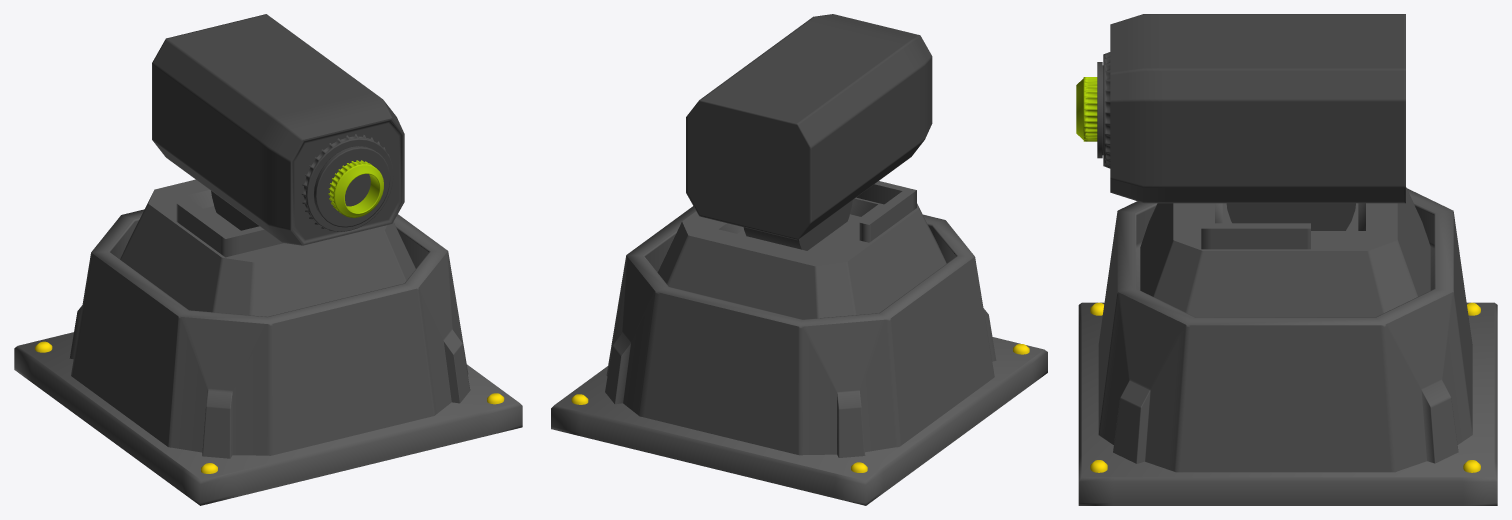
File: missileTower.fbx
3 views of the same model, side by side, from view 1: azimuth 30°, elevation 25°; view 2: azimuth 150°, elevation 25°; view 3: azimuth 270°, elevation 25° (orthographic). The views are drawn at different scales.
Visible parts, largest first — view 1: base, head; view 2: base, head; view 3: base, head.
Part boxes in pixels (<box>): base: <box>14,179,522,505</box>; head: <box>152,14,404,245</box>; base: <box>551,181,1047,505</box>; head: <box>686,14,932,250</box>; base: <box>1078,187,1497,505</box>; head: <box>1076,14,1405,230</box>.
Size of the model in its own units: 200 by 198 by 201.
